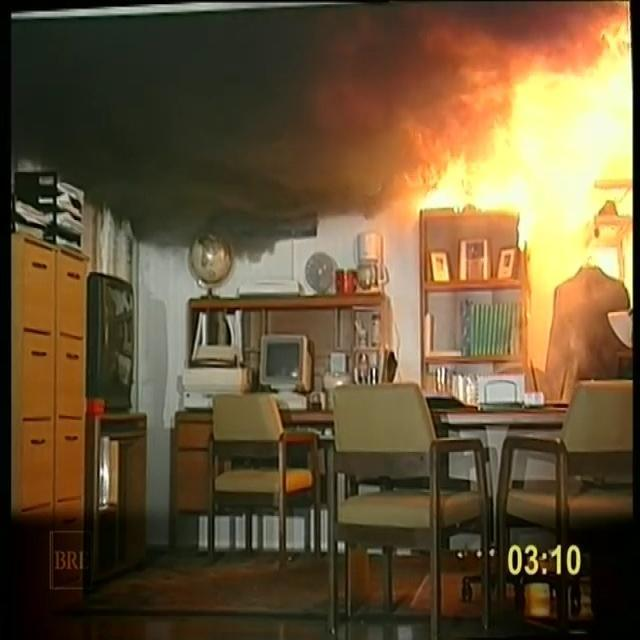Fire: (440, 3, 630, 205)
